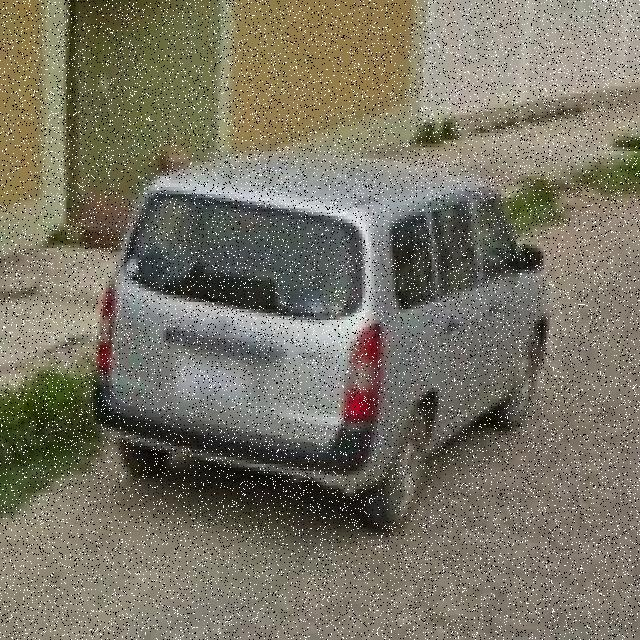cars: (67, 134, 573, 547)
